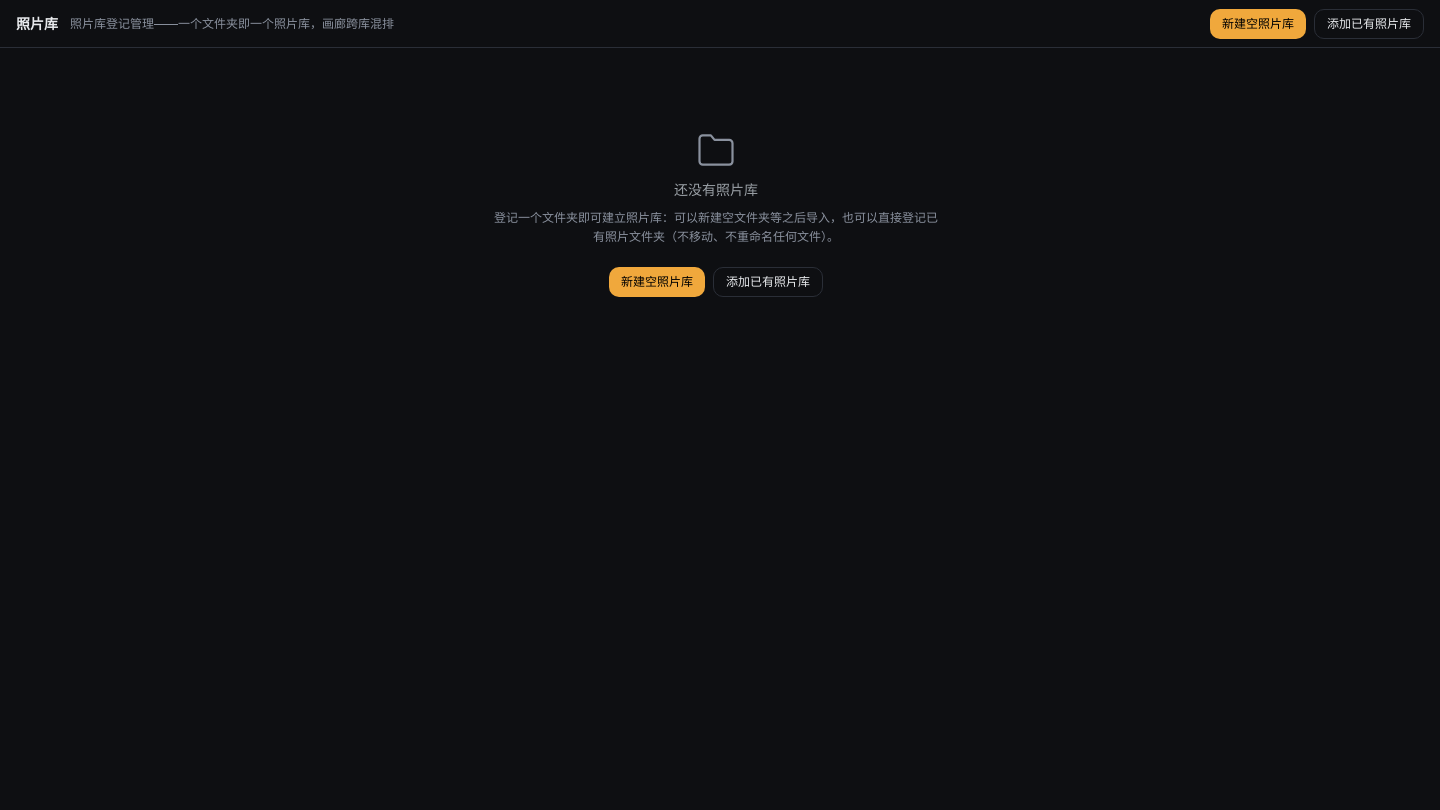
Test: StoragePage 登记入口（photo_library_create，单一按钮 + 对话框内模式二选一） › 登记业务错误：后端 Err 文案透传内联展示，对话框保持打开
expect the element with test id "storage-empty" is shown: met, box [494, 128, 938, 296]
Click the button with test id "storage-create-library".
click(1258, 24)  # box [1210, 8, 1306, 38]
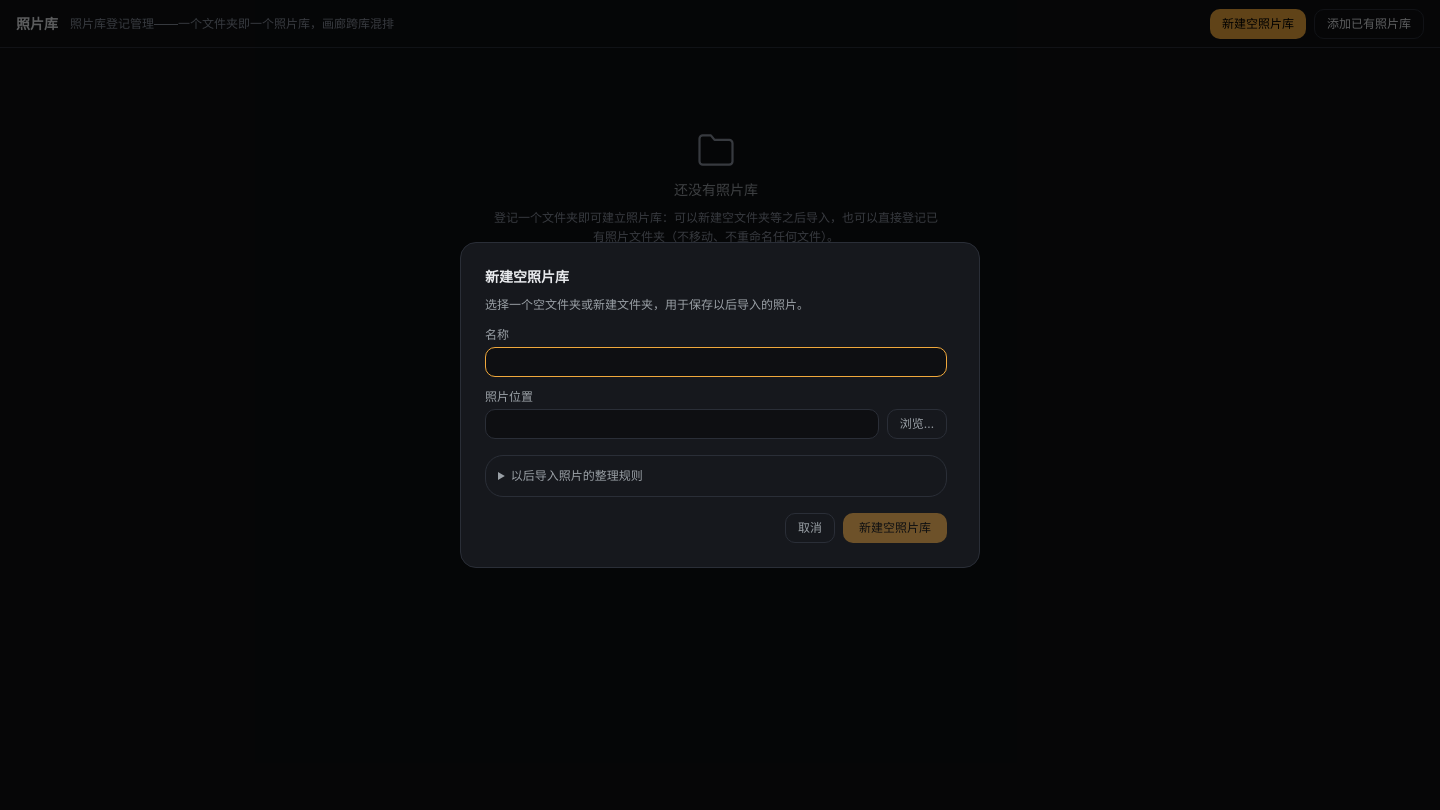
Type "库" into the field with test id "storage-create-name".
click(716, 362); type("库")  # box [485, 347, 947, 377]
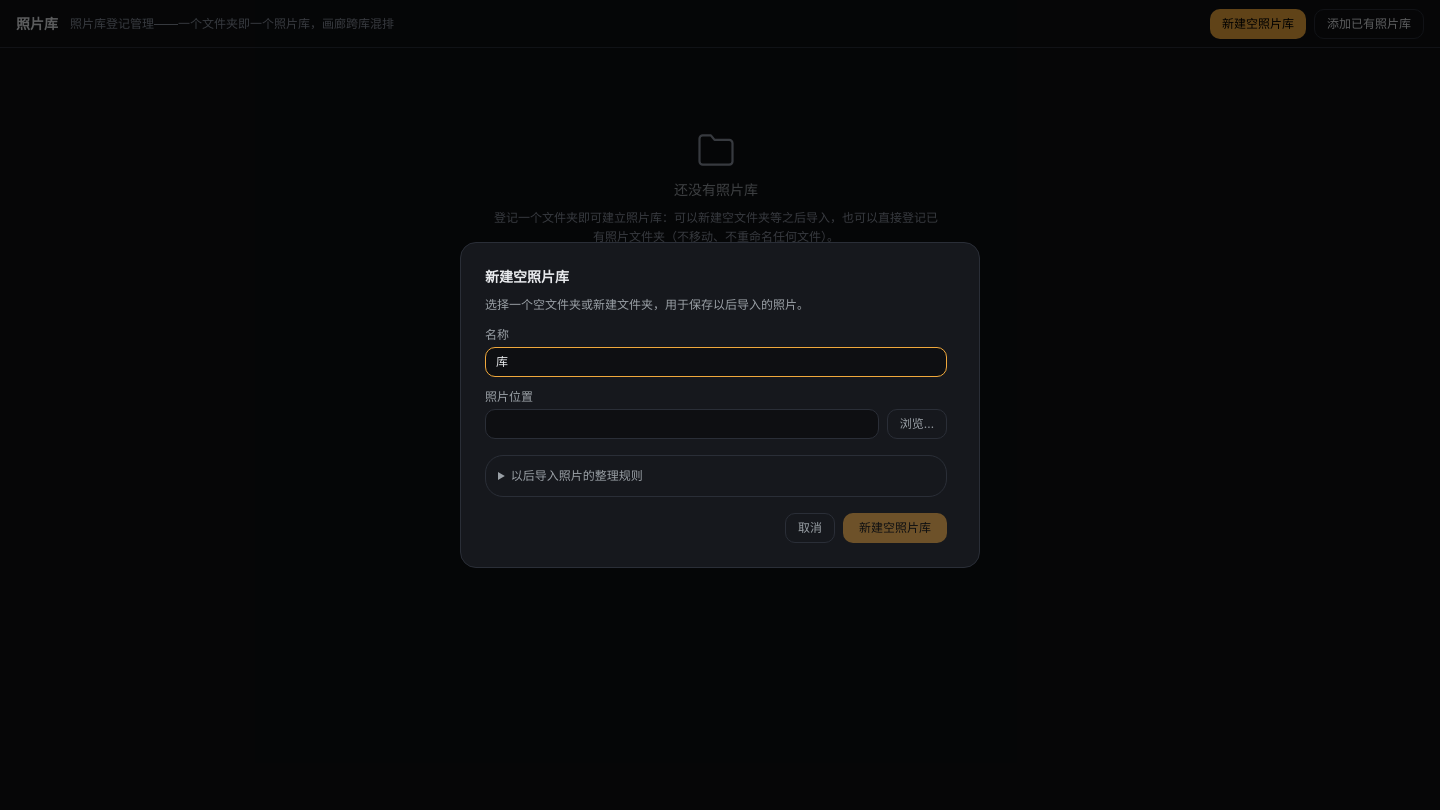
Type "I:\\Photos" into the field with test id "storage-create-root".
click(682, 424); type("I:\\Photos")  # box [485, 409, 879, 439]
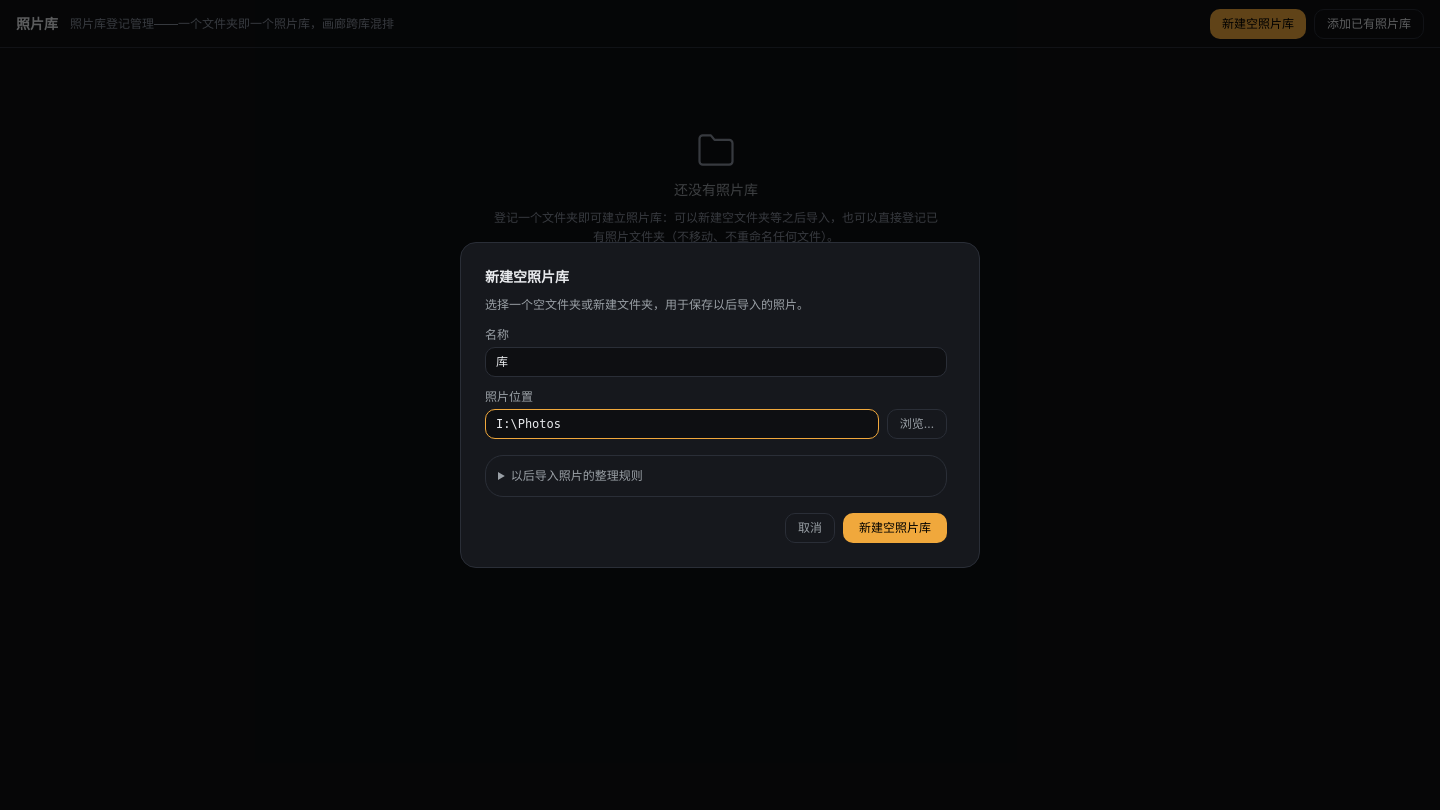
Click the button with test id "storage-create-confirm".
click(895, 528)  # box [843, 513, 947, 543]
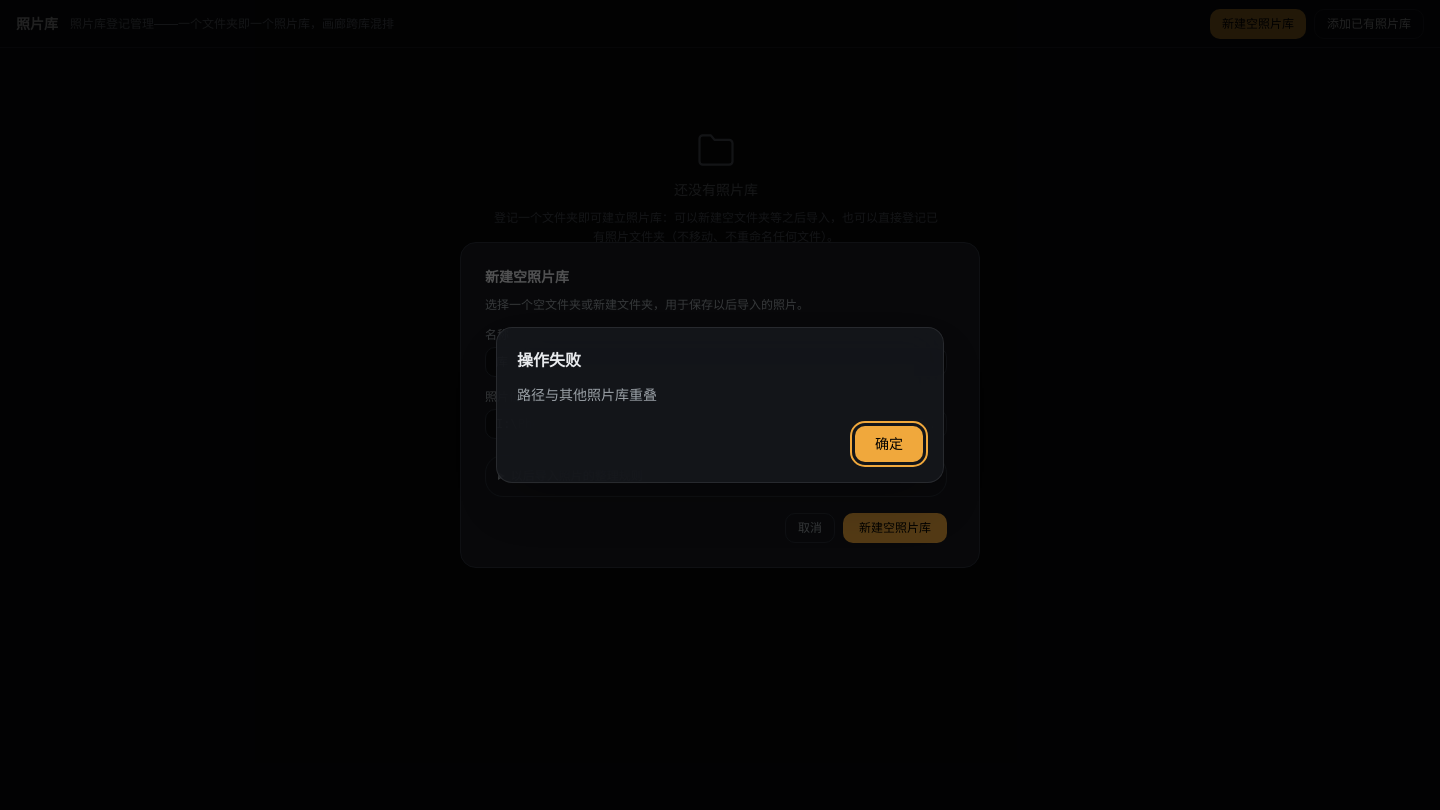
expect the dialog with test id "storage-create-dialog" is shown: met
expect the dialog with test id "operation-error-dialog" shows "路径与其他照片库重叠": met, box [517, 386, 657, 403]
